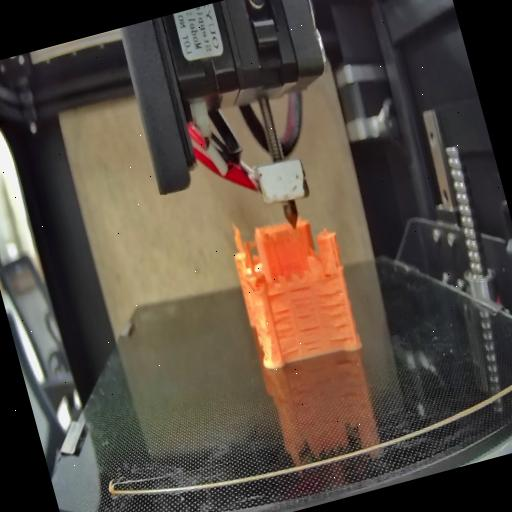cracks: (314, 286, 354, 342), (270, 305, 302, 356), (288, 284, 320, 324), (298, 324, 324, 354), (265, 287, 287, 300), (319, 268, 334, 284)
